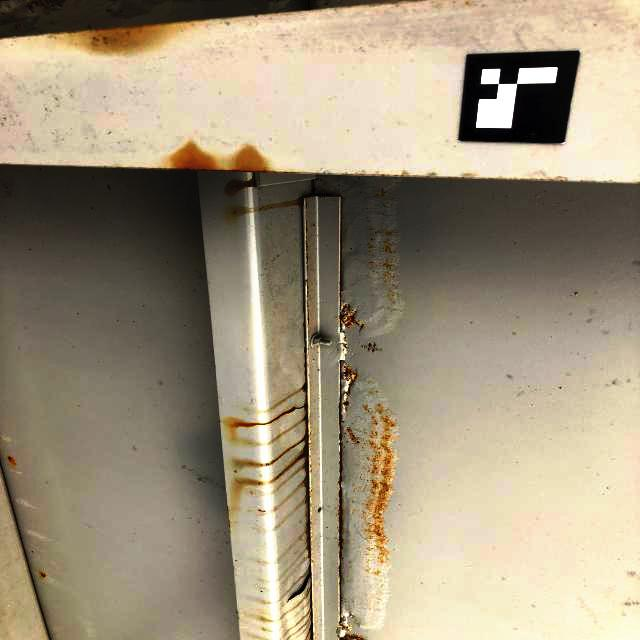Corrosion: (361, 403, 396, 565), (149, 138, 305, 174), (338, 401, 344, 577), (341, 303, 364, 332), (300, 193, 340, 207), (27, 0, 63, 11), (343, 364, 358, 382), (343, 384, 352, 411), (338, 633, 366, 640), (303, 346, 307, 394), (347, 426, 358, 443), (339, 623, 351, 631), (304, 250, 308, 272), (38, 572, 46, 579), (305, 240, 310, 250), (304, 219, 307, 234), (8, 457, 14, 464), (304, 200, 307, 206), (349, 614, 354, 617), (362, 345, 366, 348)
